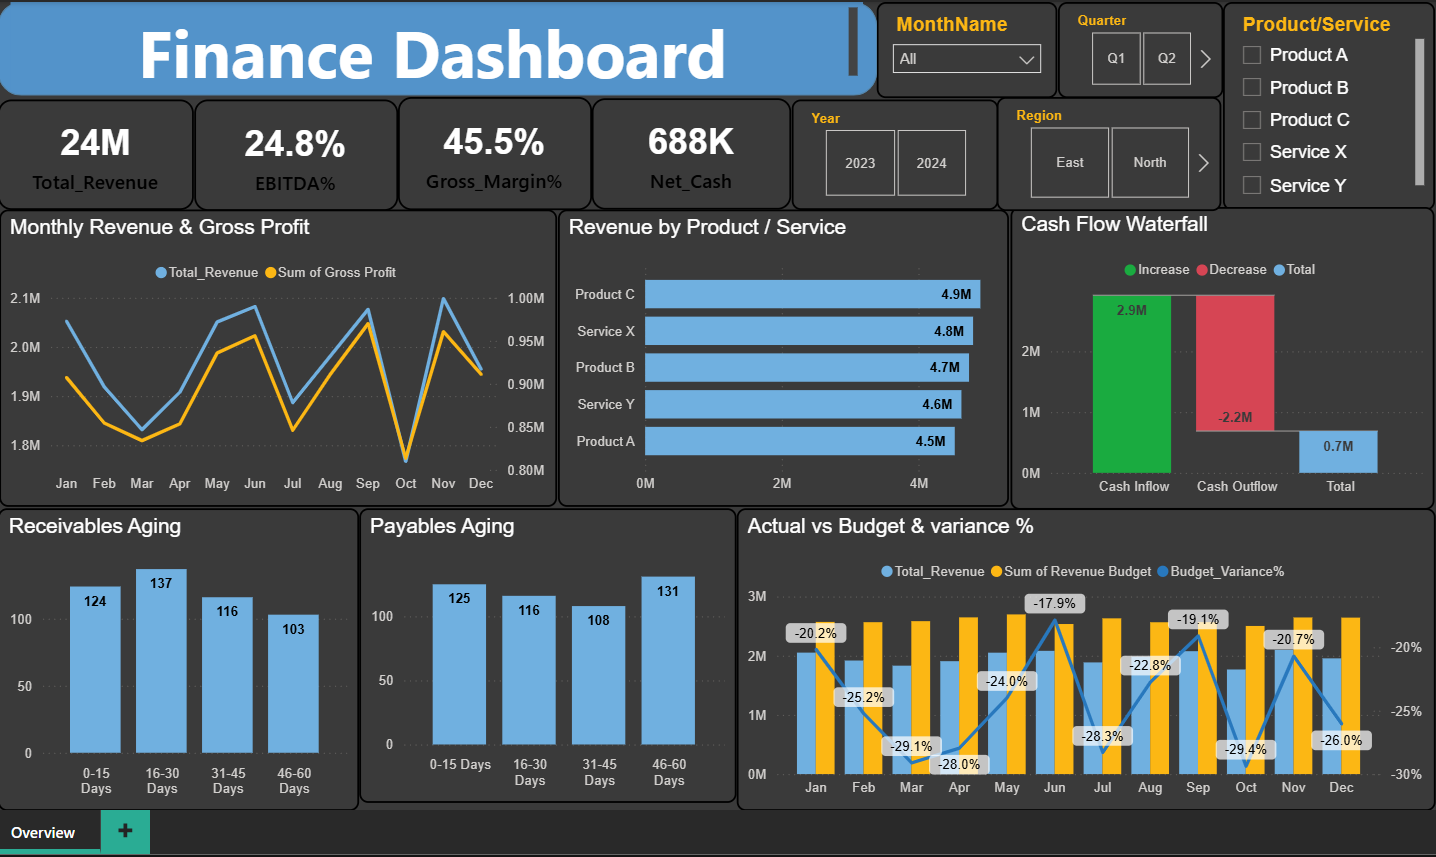

This screenshot's page, from the dashboard's own definition file:
{"tool":"powerbi","page":{"name":"Overview","canvas":[1280,720],"ordinal":0},"visuals":[{"type":"lineChart","title":"Monthly Revenue & Gross Profit ","fields":{"Category":["Financial Data.Year","Financial Data.Quarter","Financial Data.MonthName"],"Y":["Financial Data.Total_Revenue"],"Y2":["Sum(Financial Data.Gross Profit)"]},"box":[1.2,185.3,496.9,265],"z":0},{"type":"card","fields":{"Values":["Financial Data.EBITDA%"]},"box":[174.2,87.1,181.6,99.4],"z":1000},{"type":"card","fields":{"Values":["Financial Data.Total_Revenue"]},"box":[0,87.1,174.2,98.2],"z":2000},{"type":"card","fields":{"Values":["Financial Data.Net_Cash"]},"box":[528.8,85.9,177.9,99.4],"z":3000},{"type":"lineClusteredColumnComboChart","title":"Actual vs Budget & variance %","fields":{"Category":["Financial Data.MonthName"],"Y2":["Financial Data.Budget_Variance%"],"Y":["Financial Data.Total_Revenue","Sum(Financial Data.Revenue Budget)"]},"box":[498.2,450.3,781.6,269.9],"z":4000},{"type":"card","fields":{"Values":["Financial Data.Gross_Margin%"]},"box":[355.8,84.7,173,100.6],"z":5000},{"type":"slicer","fields":{"Values":["Financial Data.Year"]},"box":[706.8,87.1,184.1,98.2],"z":6000},{"type":"slicer","fields":{"Values":["Financial Data.MonthName"]},"box":[782.8,0,160.7,85.9],"z":7000},{"type":"slicer","fields":{"Values":["Financial Data.Quarter"]},"box":[943.6,0,147.2,85.9],"z":8000},{"type":"slicer","fields":{"Values":["Financial Data.Product/Service"]},"box":[1090.8,0,189,185.3],"z":9000},{"type":"shape","box":[0,0,782.8,83.4],"z":10000},{"type":"textbox","box":[11,0,759.5,78.5],"z":11000},{"type":"barChart","title":"Revenue by Product / Service","fields":{"Category":["Financial Data.Product/Service"],"Y":["Financial Data.Total_Revenue"]},"box":[498.2,185.3,401.2,265],"z":12000},{"type":"waterfallChart","title":"Cash Flow Waterfall","fields":{"Category":["Cash Flow Type.Cash Flow Type"],"Y":["Financial Data.Cash Flow Waterfall"]},"box":[902.2,185.2,377.9,269.9],"z":14000},{"type":"slicer","fields":{"Values":["Financial Data.Region"]},"box":[889.6,84.7,200,101.8],"z":15000},{"type":"clusteredColumnChart","title":"Receivables and Payables Aging","fields":{"Category":["Aging.Aging_Bucket"],"Y":["Financial Data.Receivables_Revenue","Financial Data.Payables_Revenue"]},"box":[1.2,451.5,496.9,268.7],"z":15001}]}

Visuals, with their boxes on the page's 1280x720 design canvas (x1, y1, x2, y2). These are canvas units, not pixel positions in the 1436x857 screenshot, which may show the page scaled, cropped or inside an application window:
"Monthly Revenue & Gross Profit " lineChart: <box>1,185,498,450</box>
card - Financial Data.EBITDA%: <box>174,87,356,186</box>
card - Financial Data.Total_Revenue: <box>0,87,174,185</box>
card - Financial Data.Net_Cash: <box>529,86,707,185</box>
"Actual vs Budget & variance %" lineClusteredColumnComboChart: <box>498,450,1280,720</box>
card - Financial Data.Gross_Margin%: <box>356,85,529,185</box>
slicer - Financial Data.Year: <box>707,87,891,185</box>
slicer - Financial Data.MonthName: <box>783,0,944,86</box>
slicer - Financial Data.Quarter: <box>944,0,1091,86</box>
slicer - Financial Data.Product/Service: <box>1091,0,1280,185</box>
shape: <box>0,0,783,83</box>
textbox: <box>11,0,770,78</box>
"Revenue by Product / Service" barChart: <box>498,185,899,450</box>
"Cash Flow Waterfall" waterfallChart: <box>902,185,1280,455</box>
slicer - Financial Data.Region: <box>890,85,1090,186</box>
"Receivables and Payables Aging" clusteredColumnChart: <box>1,452,498,720</box>
